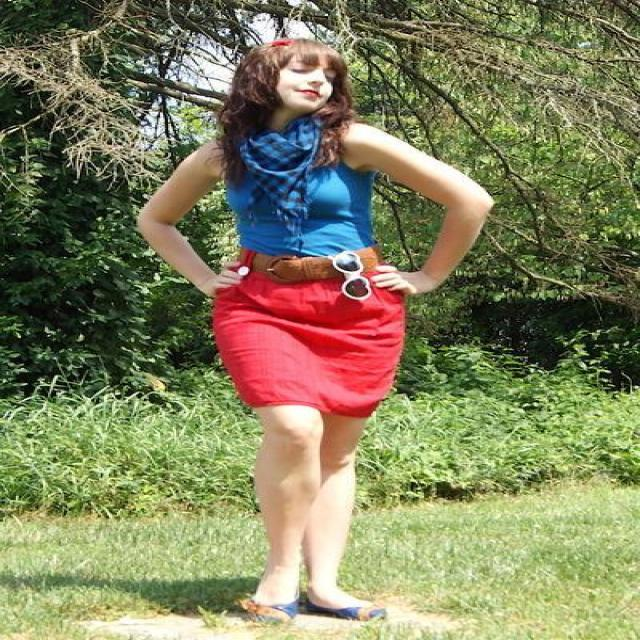shirt: (221, 125, 406, 258)
shoe: (238, 589, 372, 625)
skirt: (211, 269, 408, 415)
